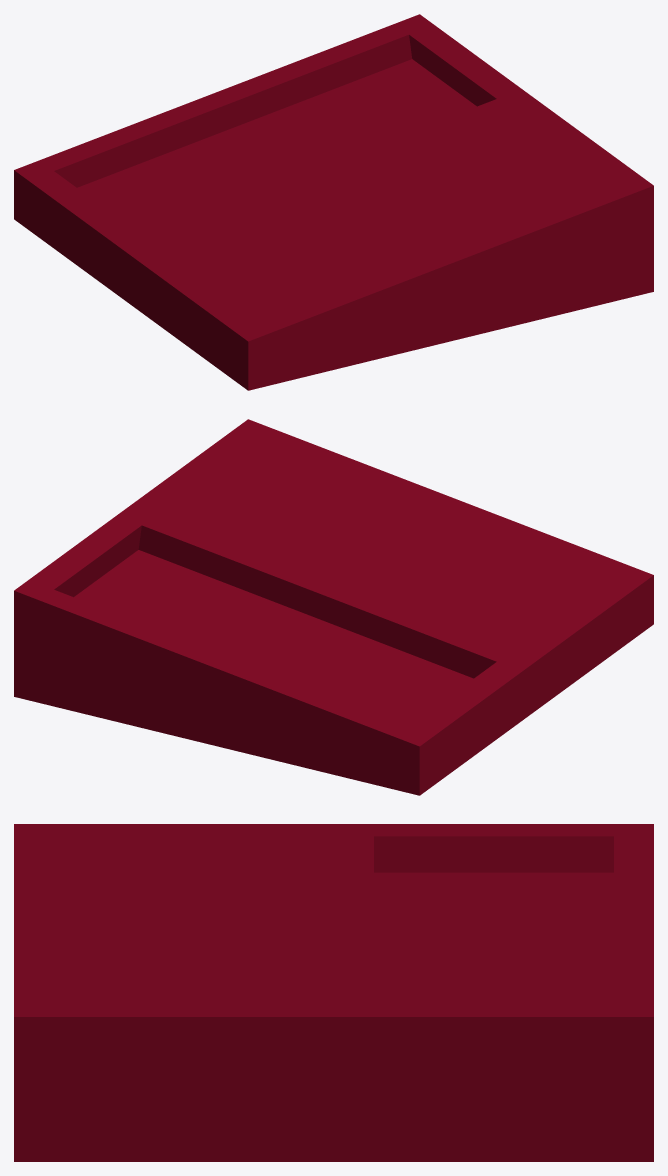
Rendered from phone_base.fbx.
3 renders of one model, top to bottom at view 1: azimuth 30°, elevation 25°; view 2: azimuth 150°, elevation 25°; view 3: azimuth 270°, elevation 25°, orthographic. The views are drawn at different scales.
Visible parts, largest first — view 1: polySurface2; view 2: polySurface2; view 3: polySurface2.
Boxes of the visible parts, x1,y1,x2,y2 form: polySurface2: (14,14,653,390); polySurface2: (14,419,653,795); polySurface2: (14,824,653,1161).
Size of the model in its own units: 0.2 by 0.05 by 0.2.
